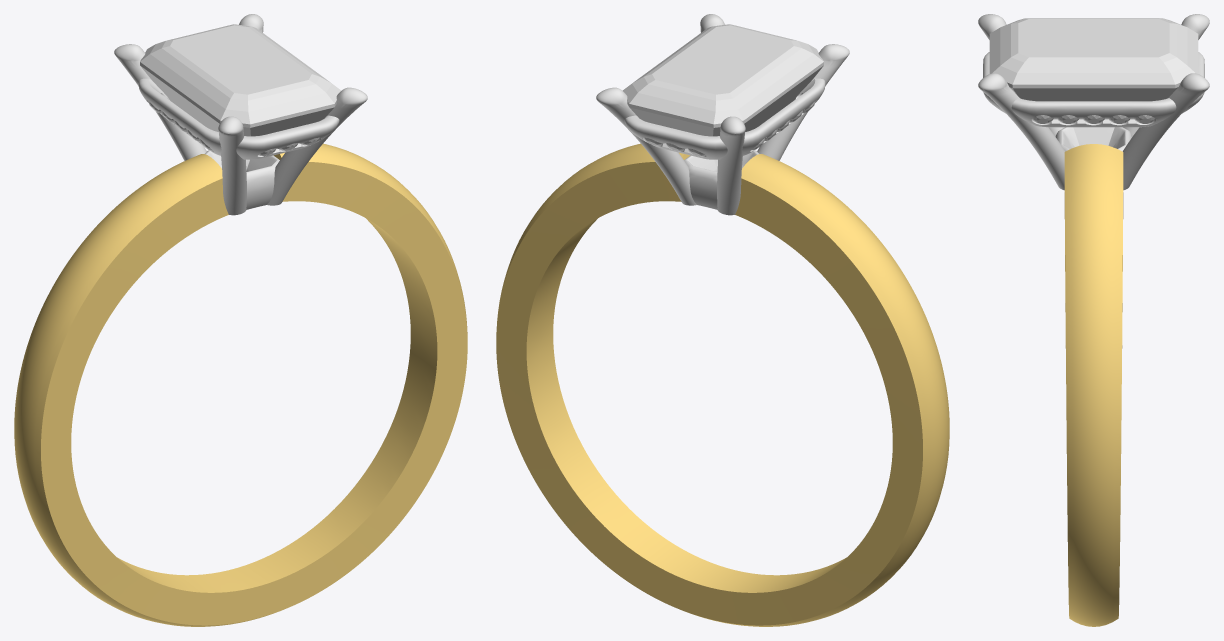
Rendered from Eric_W_YG_PT_blender.glb.
3 renders of one model, left to right at view 1: azimuth 30°, elevation 25°; view 2: azimuth 150°, elevation 25°; view 3: azimuth 270°, elevation 25°, orthographic.
Visible parts, largest first — view 1: v2 Eric W YG for 3d model, v2 Eric W dia for 3d model.016, v2 Eric W PT for 3d model; view 2: v2 Eric W YG for 3d model, v2 Eric W dia for 3d model.016, v2 Eric W PT for 3d model; view 3: v2 Eric W YG for 3d model, v2 Eric W dia for 3d model.016, v2 Eric W PT for 3d model.
Boxes of the visible parts, x1,y1,x2,y2 form: v2 Eric W YG for 3d model: (14,143,467,626); v2 Eric W dia for 3d model.016: (140,24,341,136); v2 Eric W PT for 3d model: (114,14,367,215); v2 Eric W YG for 3d model: (496,143,949,626); v2 Eric W dia for 3d model.016: (622,24,823,136); v2 Eric W PT for 3d model: (596,14,849,215); v2 Eric W YG for 3d model: (1064,144,1123,626); v2 Eric W dia for 3d model.016: (989,18,1198,101); v2 Eric W PT for 3d model: (978,14,1209,190).
Size of the model in its own units: 21.14 by 25.56 by 9.5.
